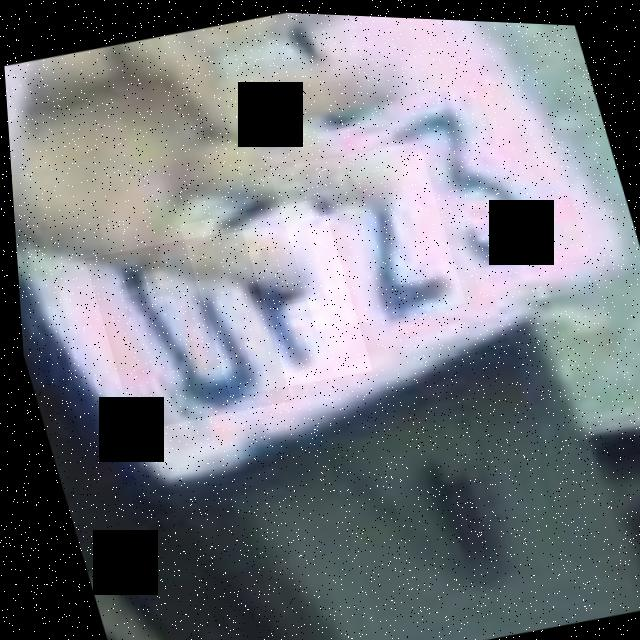1: (284, 118, 475, 325)
3: (355, 74, 566, 282)
7: (264, 132, 464, 333)
F: (175, 190, 368, 400)
U: (78, 220, 288, 435)
